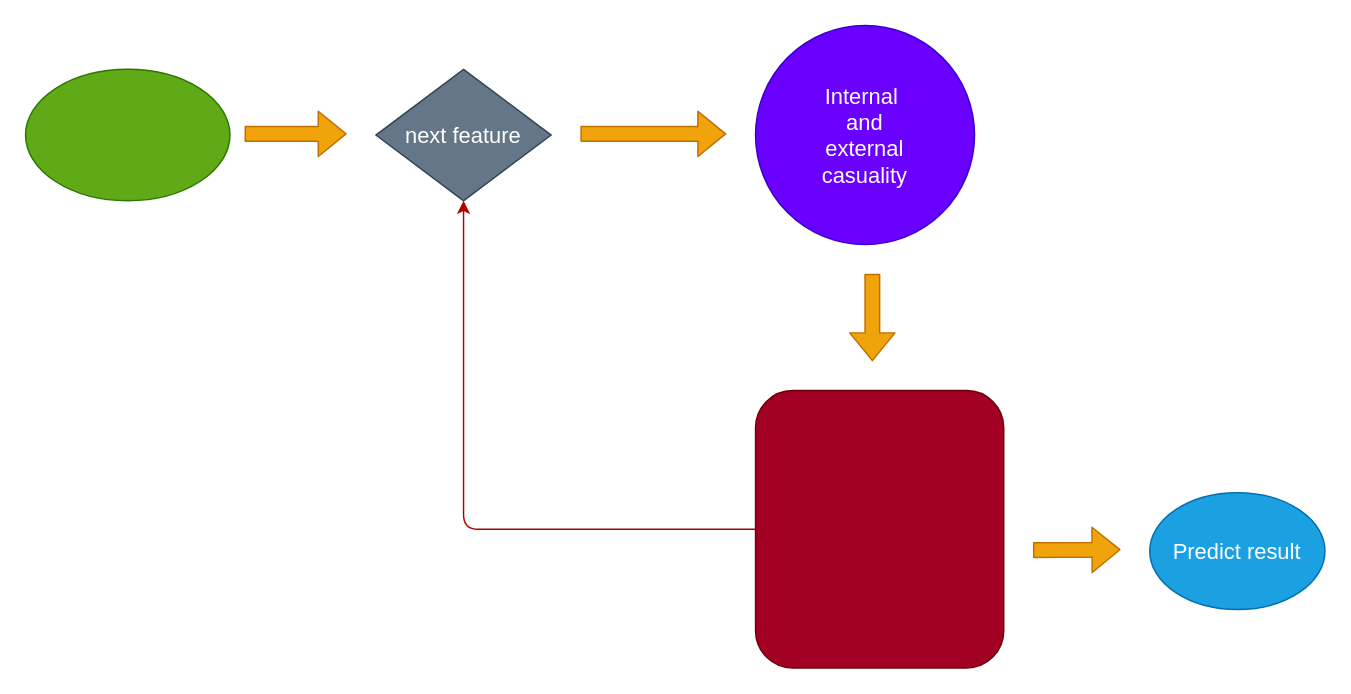
This 1351x694 diagram has some shape labels left out. Each missing label, with the centre of its shape:
"LSTM network" goes at [879,528].
"Time serial data" goes at [127,134].
